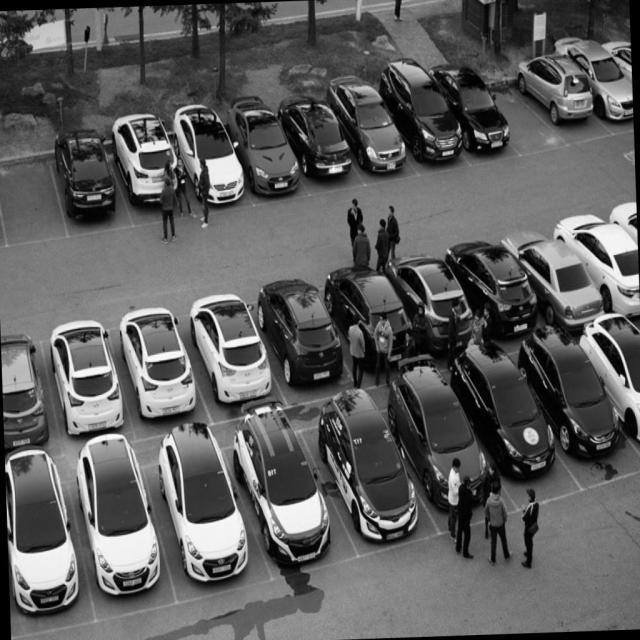space-empty: (486, 68, 569, 171), (0, 150, 66, 249)
space-occupied: (297, 389, 440, 544), (446, 350, 575, 505), (137, 424, 253, 593), (223, 416, 354, 565), (375, 374, 500, 525), (67, 441, 179, 609), (520, 329, 640, 477), (5, 450, 95, 635), (392, 231, 482, 369), (326, 251, 421, 381), (184, 291, 279, 418), (119, 303, 210, 435), (258, 272, 354, 397), (452, 221, 544, 349), (518, 213, 605, 338), (436, 56, 520, 183), (47, 311, 130, 433), (384, 68, 472, 174), (561, 204, 640, 321), (521, 53, 612, 154), (332, 68, 410, 181), (113, 110, 189, 223), (171, 104, 249, 214), (556, 26, 634, 136), (285, 89, 360, 199), (229, 93, 300, 202), (1, 328, 59, 461), (59, 135, 130, 240)
